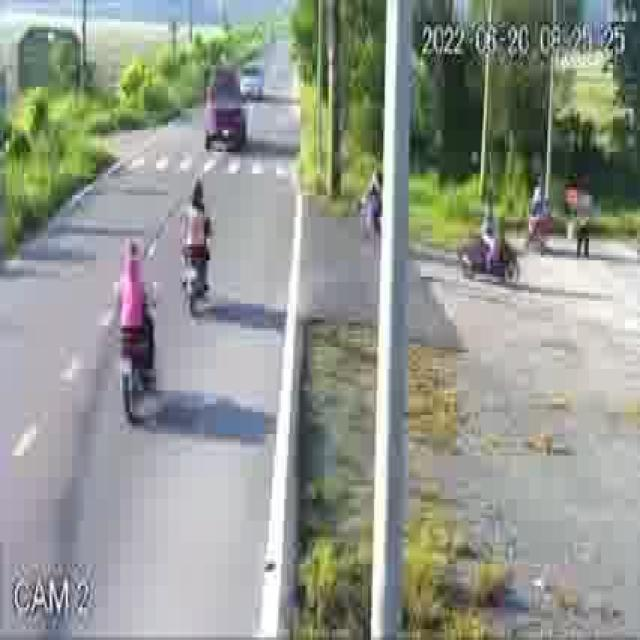normal: (107, 167, 221, 434), (196, 47, 260, 153)
